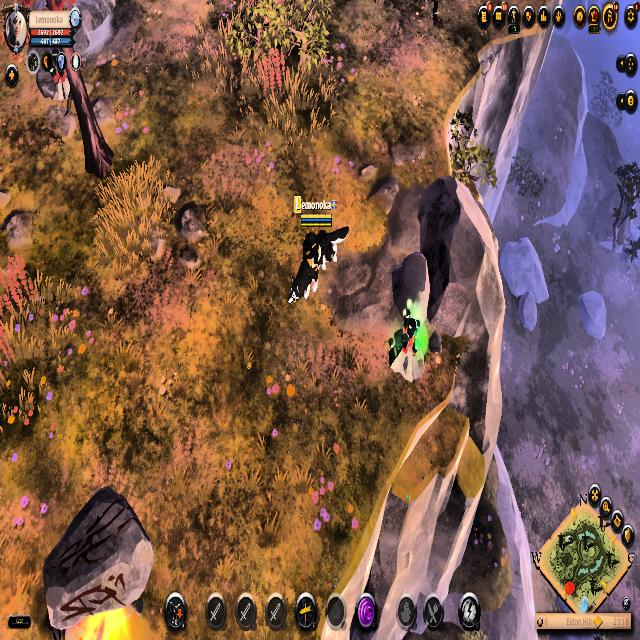ore tier 5: (387, 303, 427, 382)
